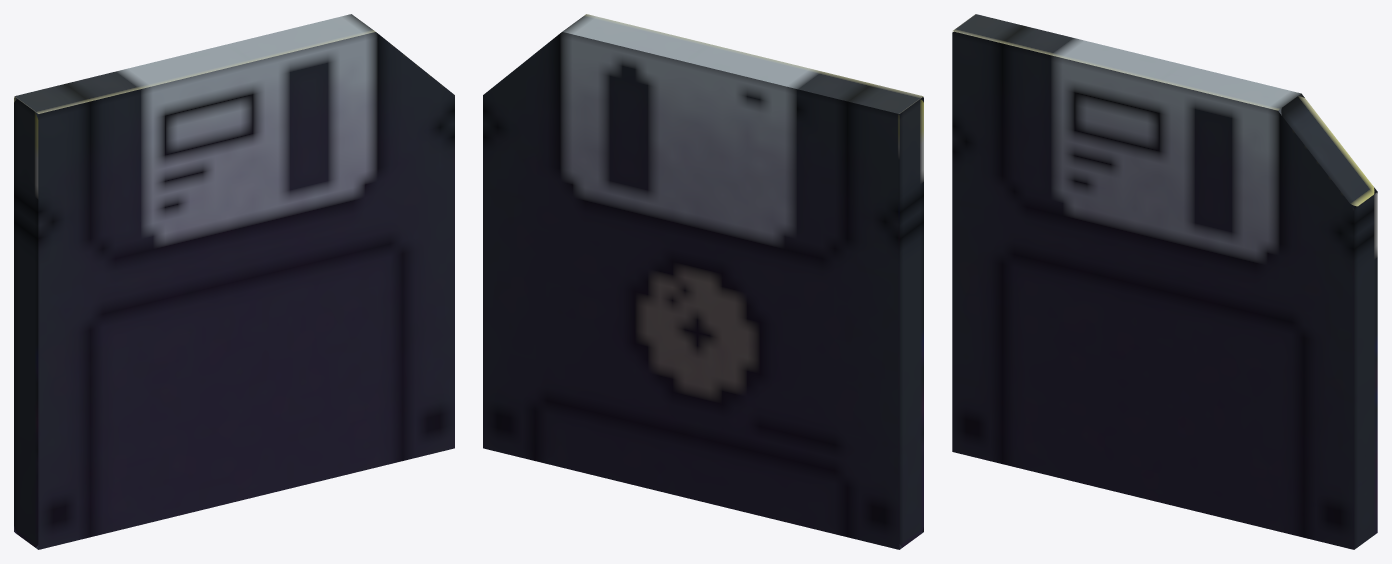
File: floppydisk.obj
3 renders of one model, left to right at view 1: azimuth 30°, elevation 25°; view 2: azimuth 150°, elevation 25°; view 3: azimuth 330°, elevation 25°, orthographic. The views are drawn at different scales.
Visible parts, largest first — view 1: FloppyDisk; view 2: FloppyDisk; view 3: FloppyDisk.
Boxes of the visible parts, <box> form: FloppyDisk: <box>14,14,454,549</box>; FloppyDisk: <box>483,14,923,549</box>; FloppyDisk: <box>952,14,1377,549</box>.
Bounding box in the file's own units: 0.2604 × 0.2604 × 0.0264.
Materials: 1 (1 with a texture image).
